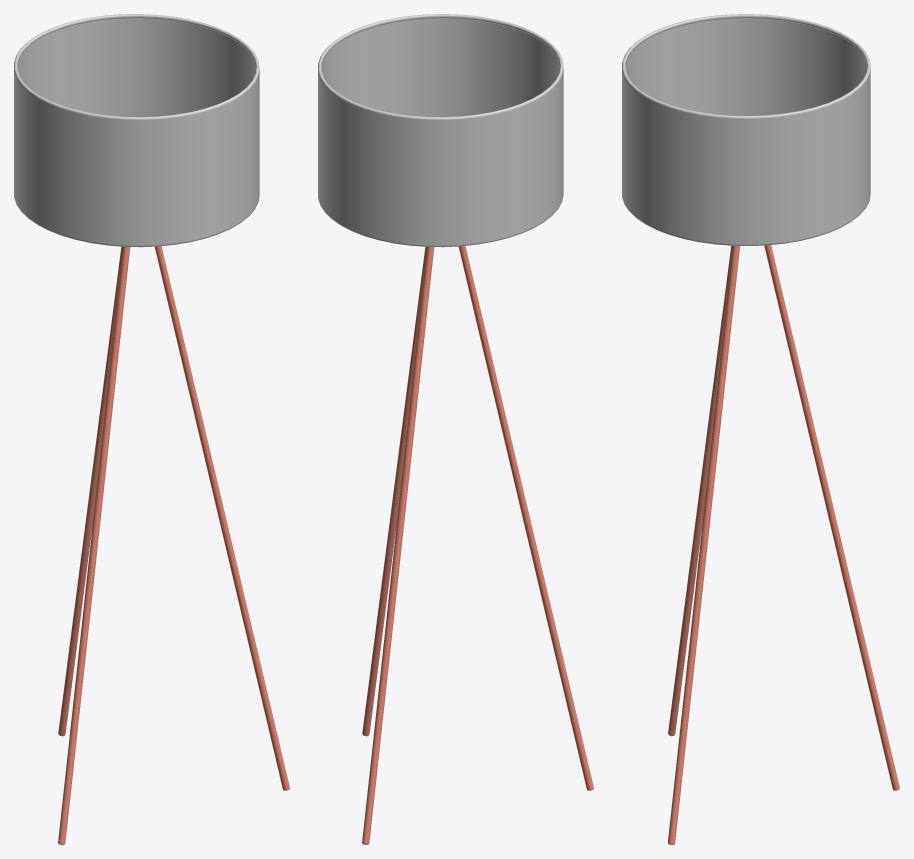
The picture shows the model from 3 angles, left to right: view 1: azimuth 30°, elevation 25°; view 2: azimuth 150°, elevation 25°; view 3: azimuth 270°, elevation 25°; orthographic projection.
Visible parts, largest first — view 1: Frances_Tripod_Floor_Lamp_Copper; view 2: Frances_Tripod_Floor_Lamp_Copper; view 3: Frances_Tripod_Floor_Lamp_Copper.
Boxes of the visible parts, bbox=[...] form: Frances_Tripod_Floor_Lamp_Copper: bbox=[14, 14, 289, 844]; Frances_Tripod_Floor_Lamp_Copper: bbox=[318, 14, 593, 844]; Frances_Tripod_Floor_Lamp_Copper: bbox=[622, 14, 899, 844].
Size of what is drawn, in the model's own units: 54.49 by 163 by 56.75.
